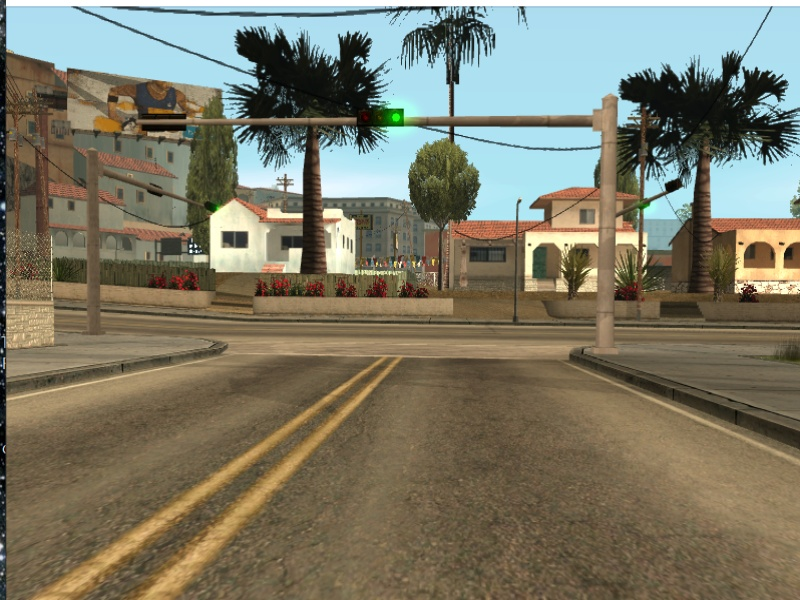pole: (590, 102, 623, 354), (80, 146, 106, 336), (635, 116, 648, 323), (512, 203, 523, 327)
